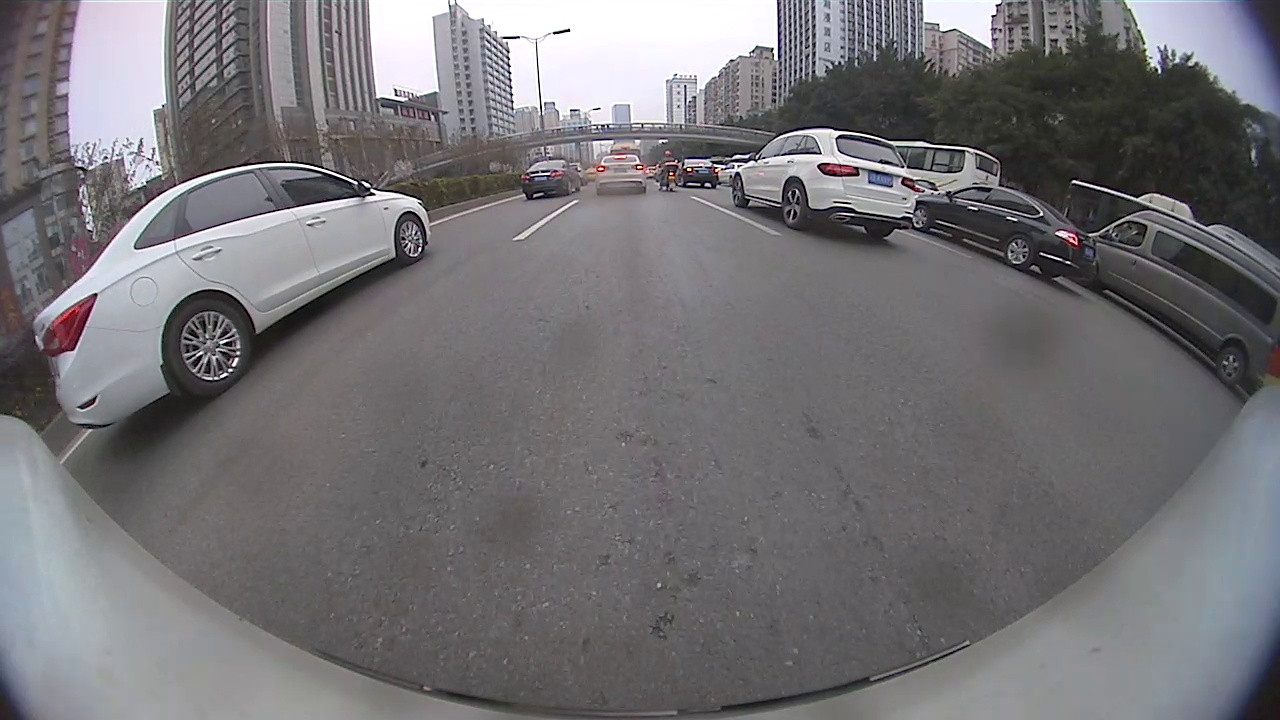bus: (1058, 179, 1276, 274), (894, 143, 1003, 190)
car: (34, 158, 433, 427), (1086, 211, 1279, 383), (731, 126, 920, 238), (915, 187, 1103, 279), (522, 156, 583, 198), (596, 155, 648, 192), (681, 158, 722, 190)
front: (394, 211, 428, 266), (911, 204, 931, 233), (732, 176, 748, 208)
rear: (164, 296, 254, 400), (781, 183, 809, 232), (1215, 347, 1245, 385), (1004, 233, 1033, 270)
rider: (657, 150, 678, 190)
